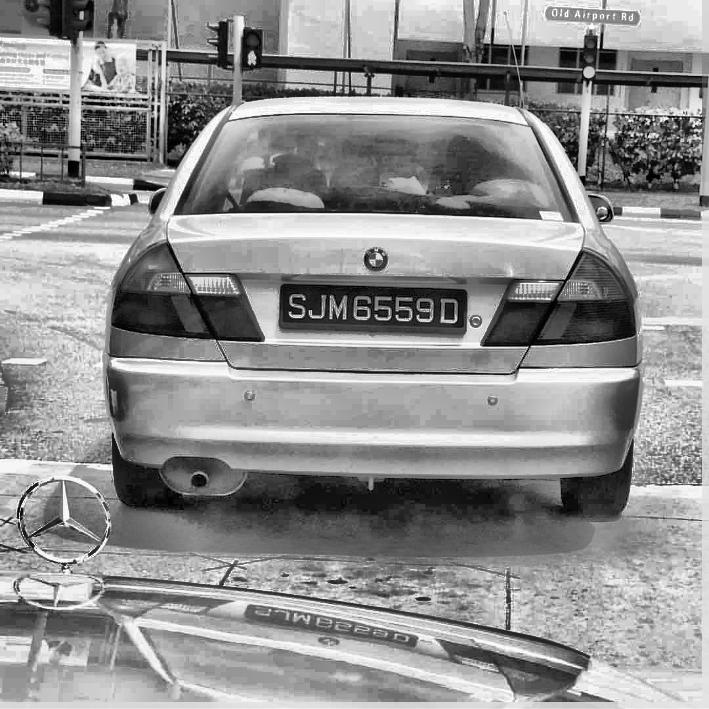License-Plates: (282, 290, 464, 324)
